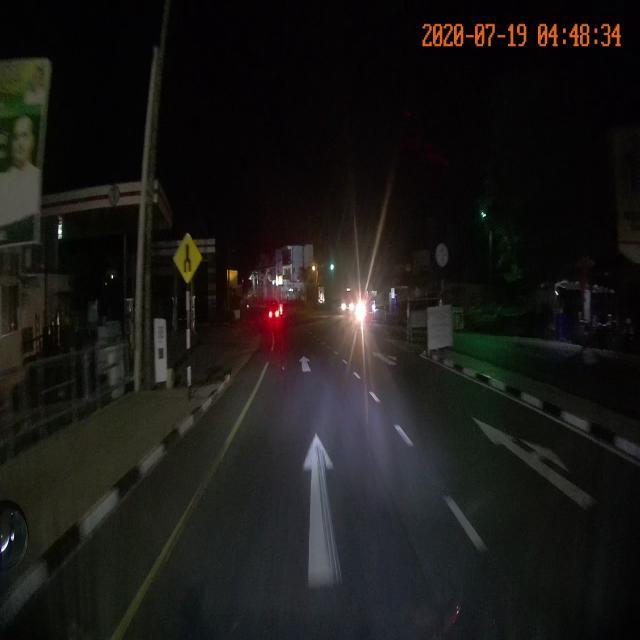forward: (139, 415, 510, 585)
